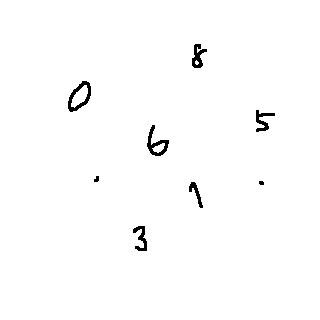.: (86, 166, 108, 192), (248, 175, 270, 190)
0: (55, 76, 98, 119)
1: (183, 178, 207, 212)
3: (126, 217, 156, 262)
5: (251, 105, 280, 139)
6: (142, 121, 179, 162)
8: (175, 41, 213, 76)
